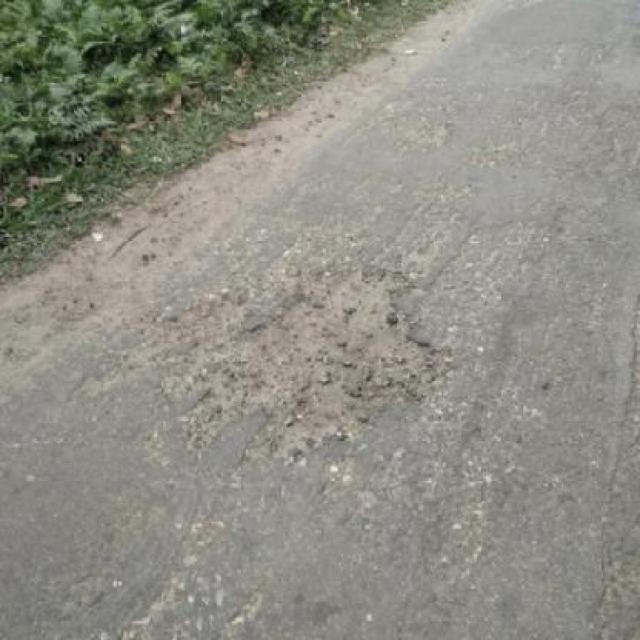Pothole: (219, 264, 444, 451)
